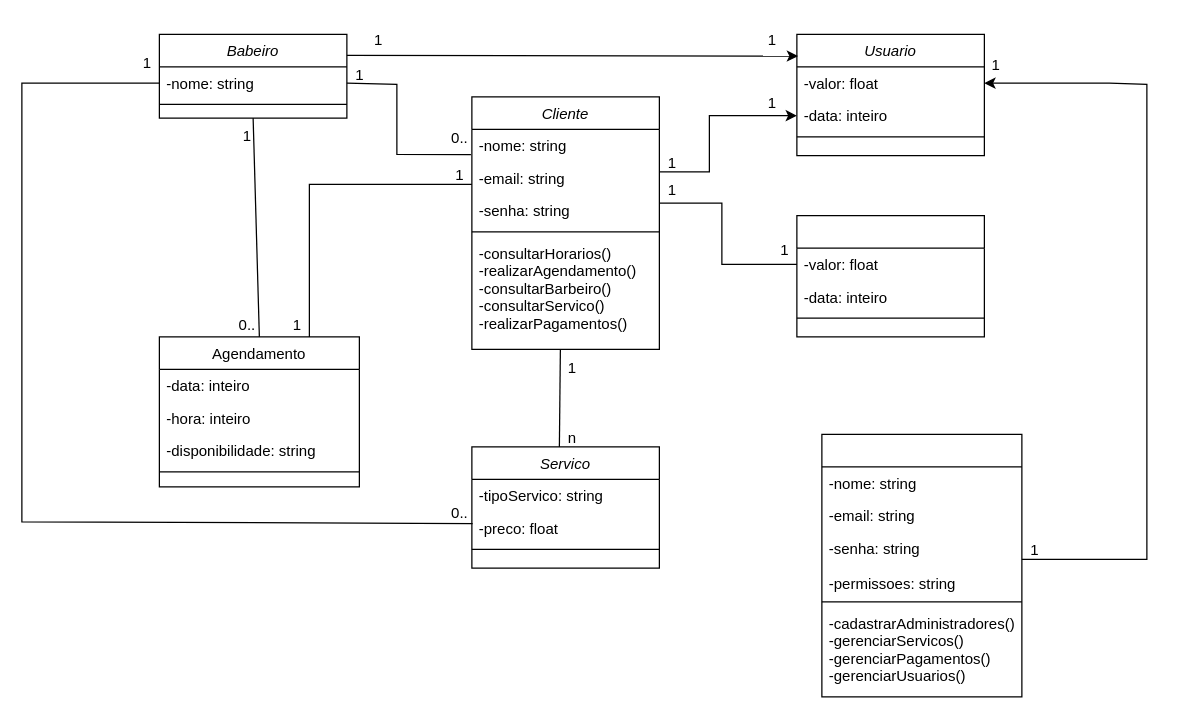
Image size: 1179x721. Some labels were removed from this diagram. The box of each missing label's shape, as (x1, y1, x2, y2) in pixels:
Administrator: (821, 433, 1022, 697)
Pagamento: (796, 214, 984, 337)
